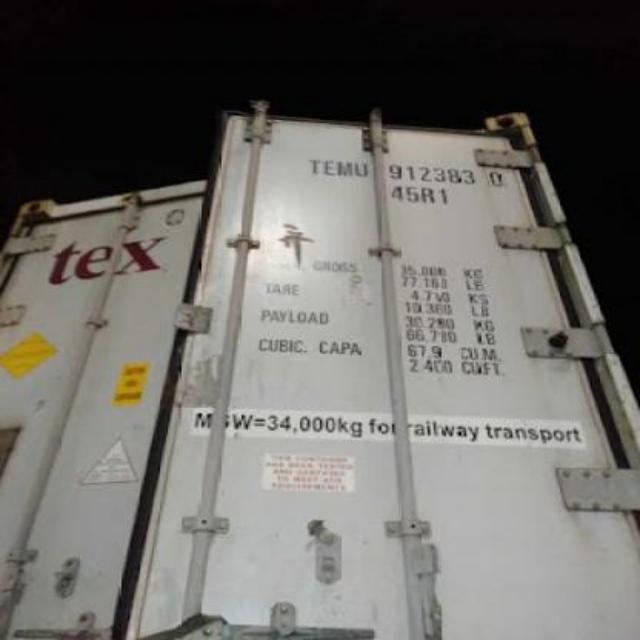0: (490, 170, 506, 188)
1: (404, 164, 416, 180)
2: (418, 164, 436, 186)
3: (434, 164, 448, 186), (462, 169, 478, 185)
8: (446, 167, 462, 183)
9: (388, 160, 404, 182)
E: (324, 159, 338, 175)
M: (338, 158, 354, 178)
T: (306, 157, 324, 175)
U: (352, 161, 372, 177)
